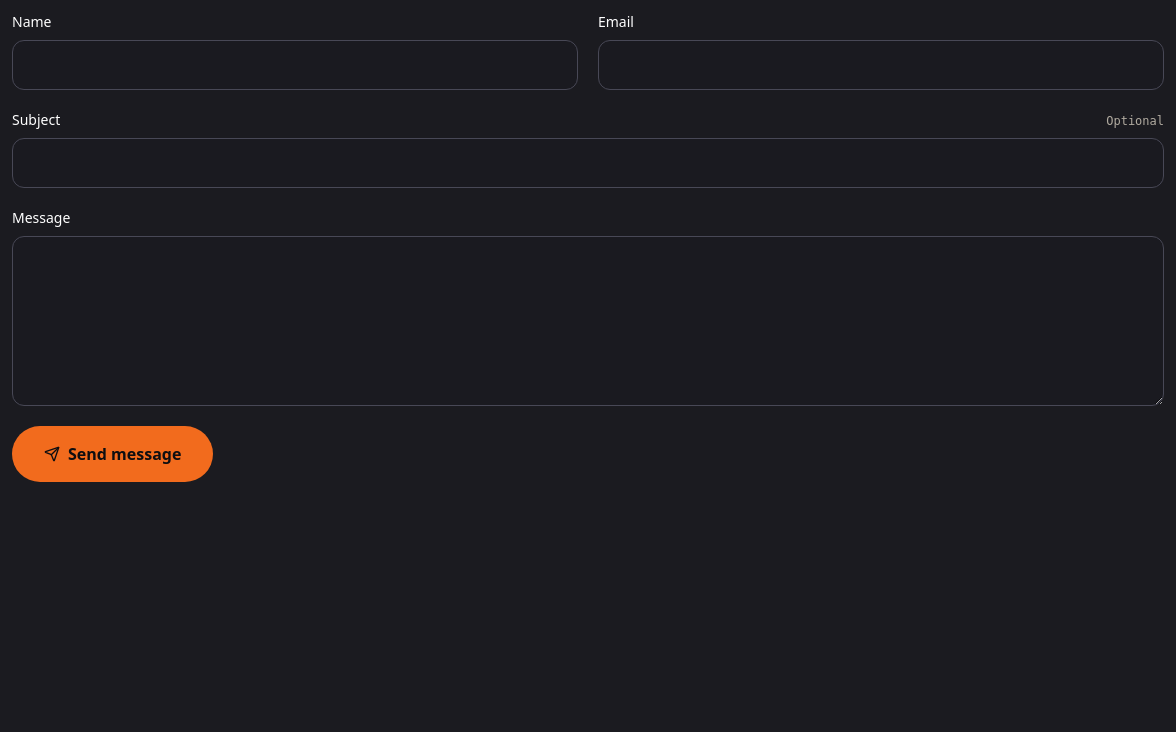
ContactForm › rejects an email address that does not look right
Type "not-an-email" into the field labelled "Email" at x=881, y=65, box [598,40,1164,90]
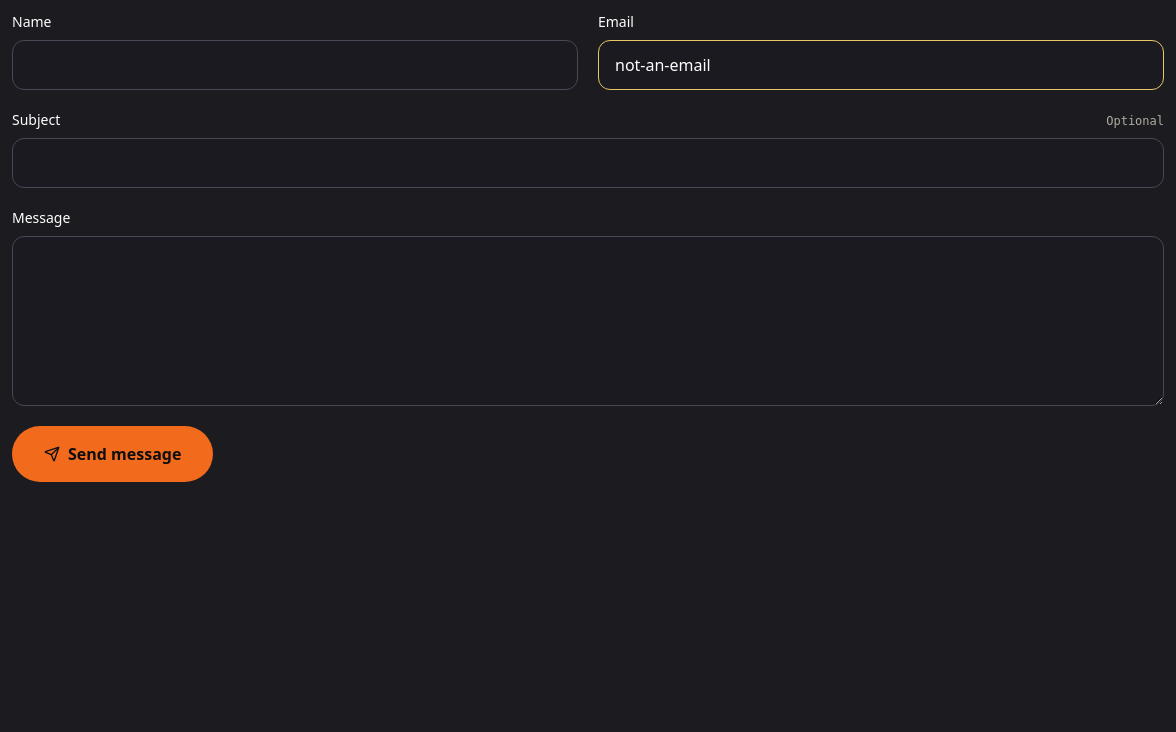
Press Tab
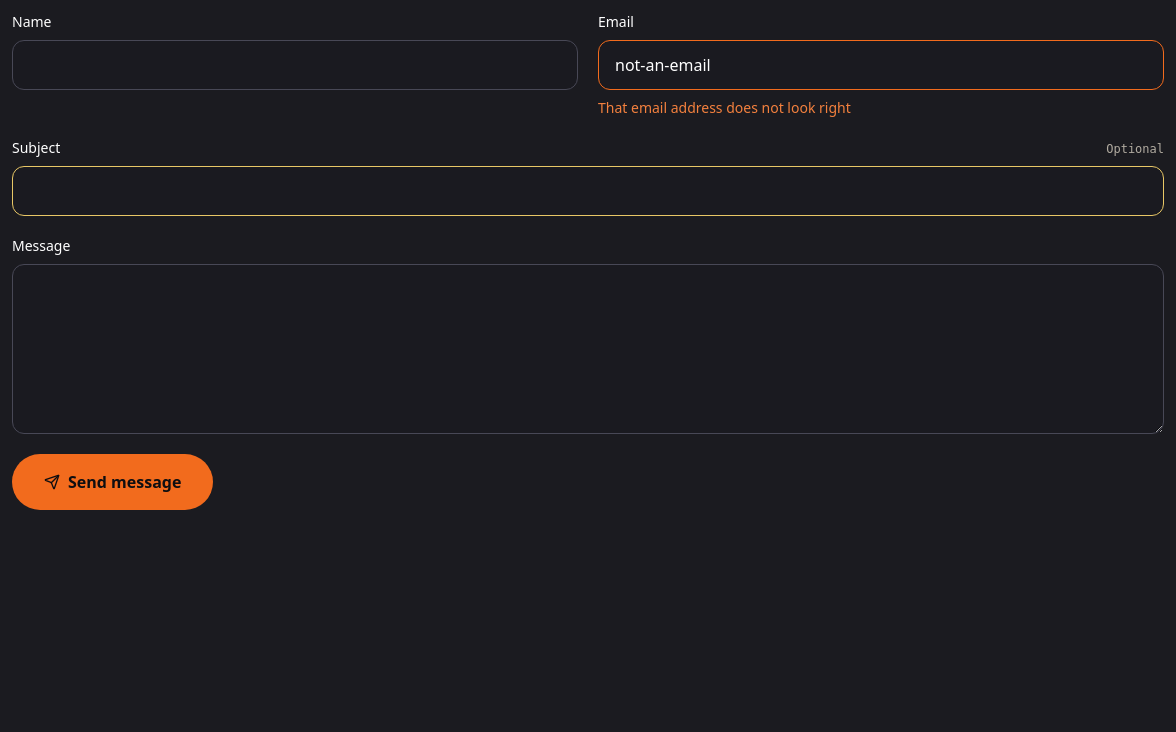
Expected: the text "That email address does not look right" is shown, [598,98,851,117]
